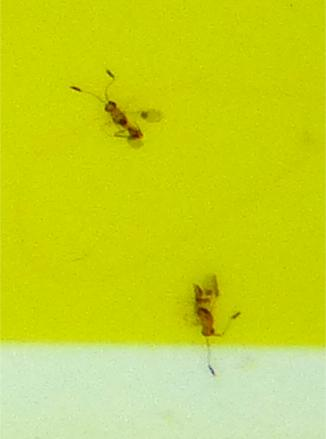Hymenoptera: (187, 273, 226, 339), (100, 100, 155, 145)
